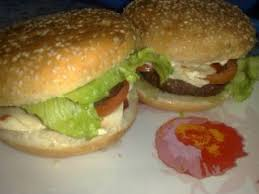hamburger: (3, 9, 142, 157), (122, 1, 257, 112)
